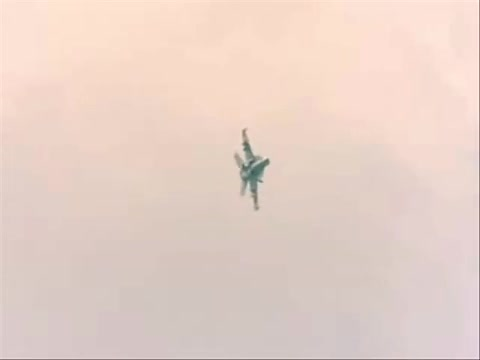aeroplane: (230, 126, 272, 214)
